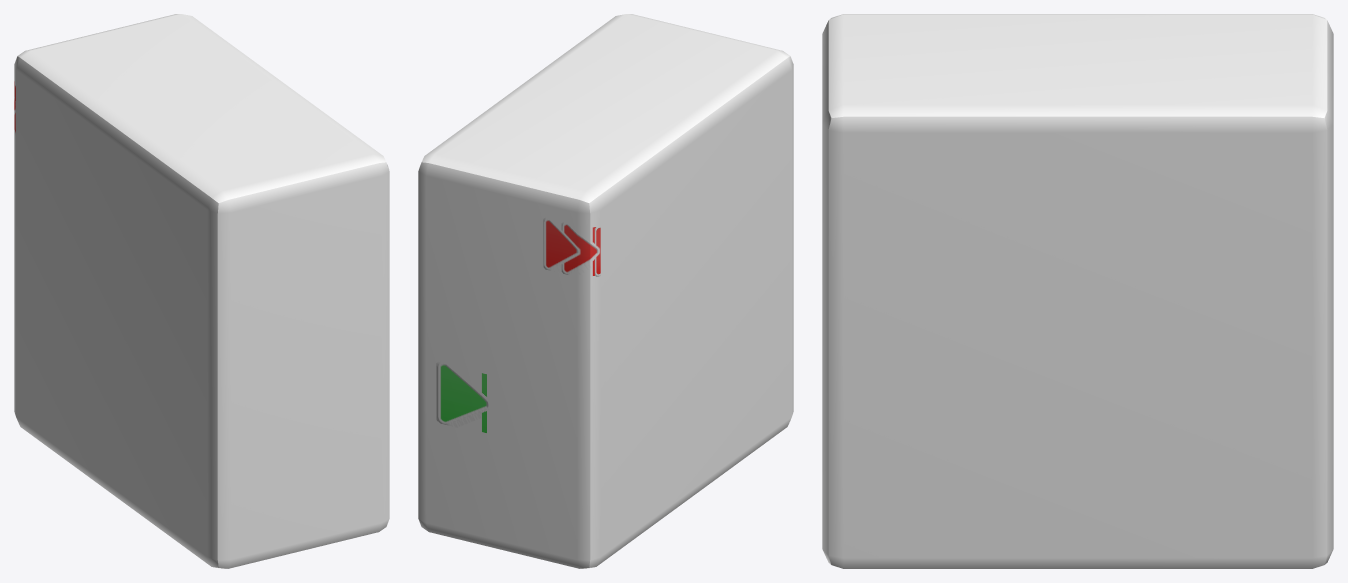
Rendered from HolodeckButton.fbx.
The picture shows the model from 3 angles, left to right: view 1: azimuth 30°, elevation 25°; view 2: azimuth 150°, elevation 25°; view 3: azimuth 270°, elevation 25°; orthographic projection. The views are drawn at different scales.
Parts seen in each view (by area): view 1: Half1; view 2: Half1; view 3: Half1.
Part boxes in pixels (x1,y1,x2,y2): Half1: (14, 14, 389, 568); Half1: (418, 14, 793, 568); Half1: (822, 14, 1333, 568).
Size of the model in its own units: 0.1322 by 0.2644 by 0.2644.
1 material, 1 textured.
